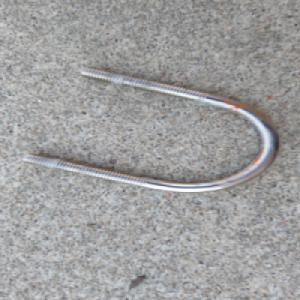ClampPart: (20, 64, 281, 194)
